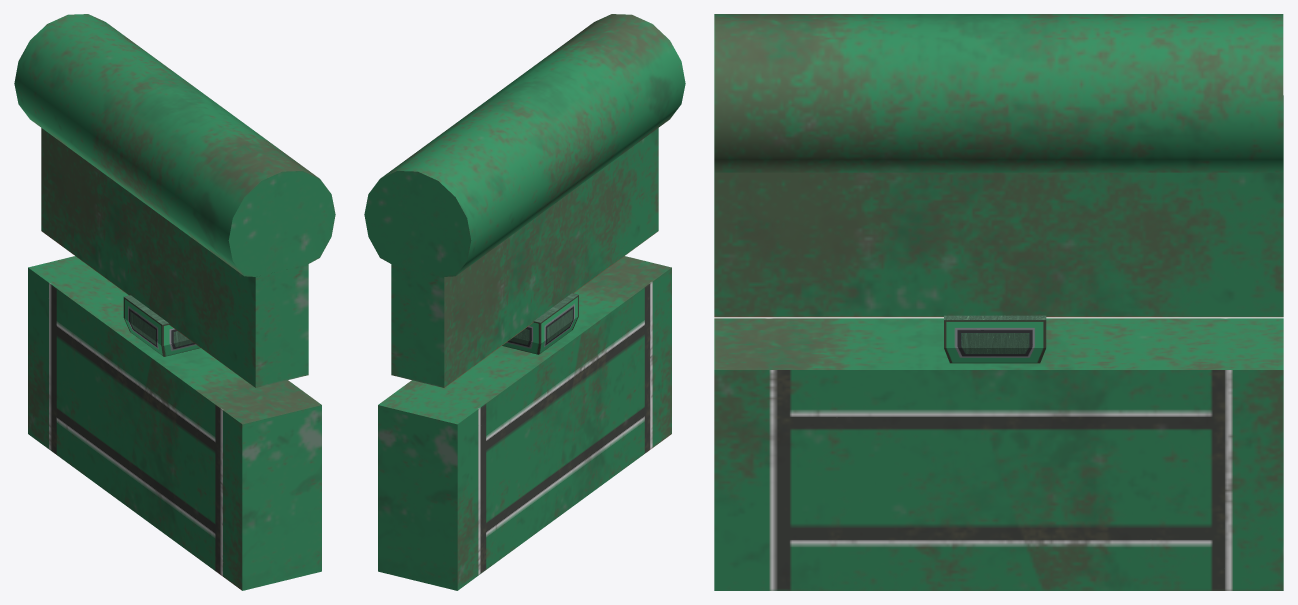
File: SM_Purlin05a.fbx
The picture shows the model from 3 angles, left to right: view 1: azimuth 30°, elevation 25°; view 2: azimuth 150°, elevation 25°; view 3: azimuth 270°, elevation 25°; orthographic projection. The views are drawn at different scales.
Visible parts, largest first — view 1: SM_Purlin05a; view 2: SM_Purlin05a; view 3: SM_Purlin05a.
Boxes of the visible parts, bbox=[...] form: SM_Purlin05a: bbox=[14, 14, 335, 590]; SM_Purlin05a: bbox=[364, 14, 685, 590]; SM_Purlin05a: bbox=[714, 14, 1283, 590].
Size of the model in its own units: 20.15 by 70 by 73.79.
Materials: 2 (2 with a texture image).
